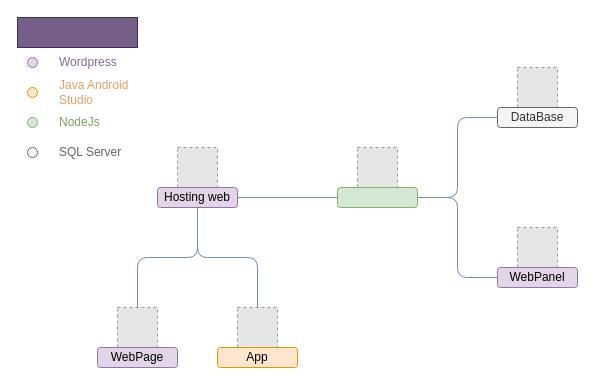
Some shapes in this 595 by 385 pixel diagram are drawn without their labels. Grey dashed boxes stand in for pictures. Here are the shapes that lost their labels. From the top down, the centre of each, then its label:
[77,32]: Tecnologies
[377,197]: Server
